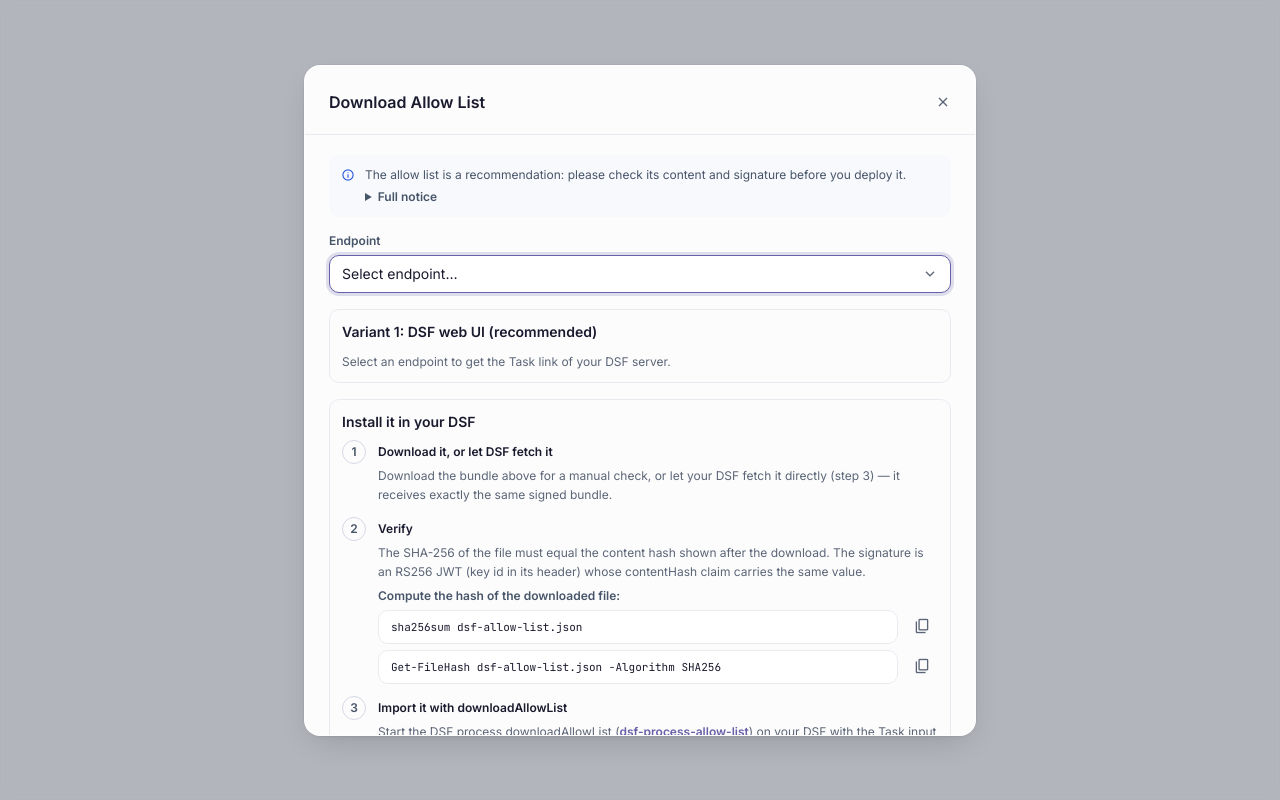
Test: DownloadModal – versioned download and verification › warns when the received bytes do not match the content hash
Select "Klinik FHIR" in the dropdown labelled "Endpoint" at (640, 274), box [329, 254, 951, 292]
(page scrolled)
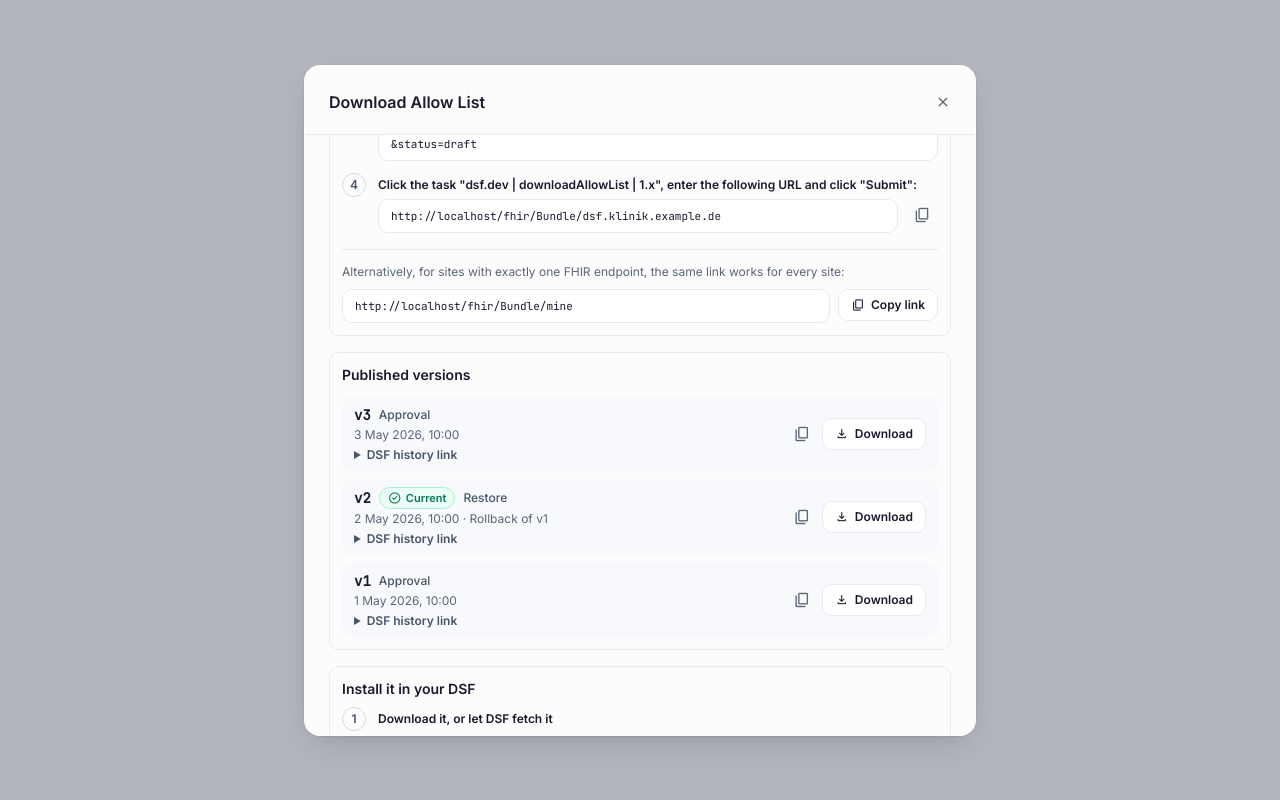
Click the button with test id "download-version-3" at (874, 434), box [822, 418, 926, 450]
(page scrolled)
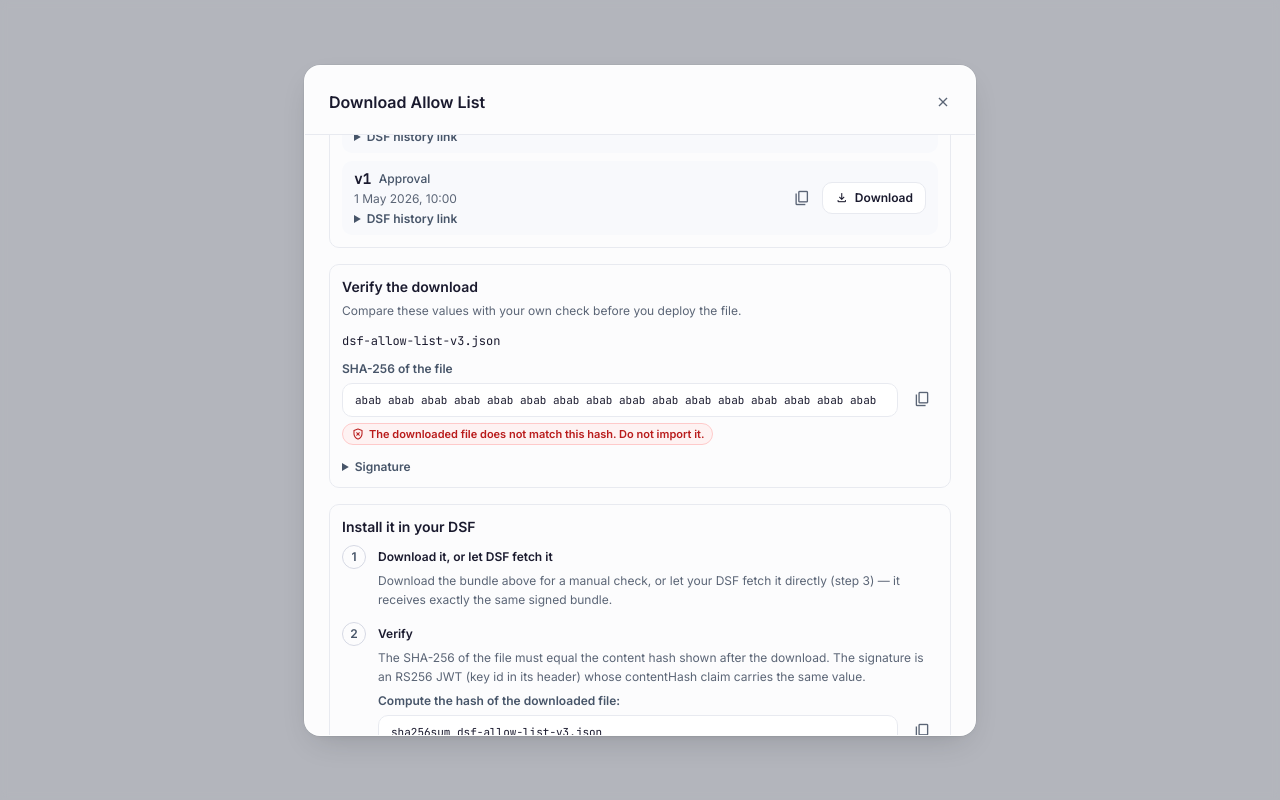
Check: the message reads "The downloaded file does not match this hash. Do not import it.", box [369, 426, 704, 440]
